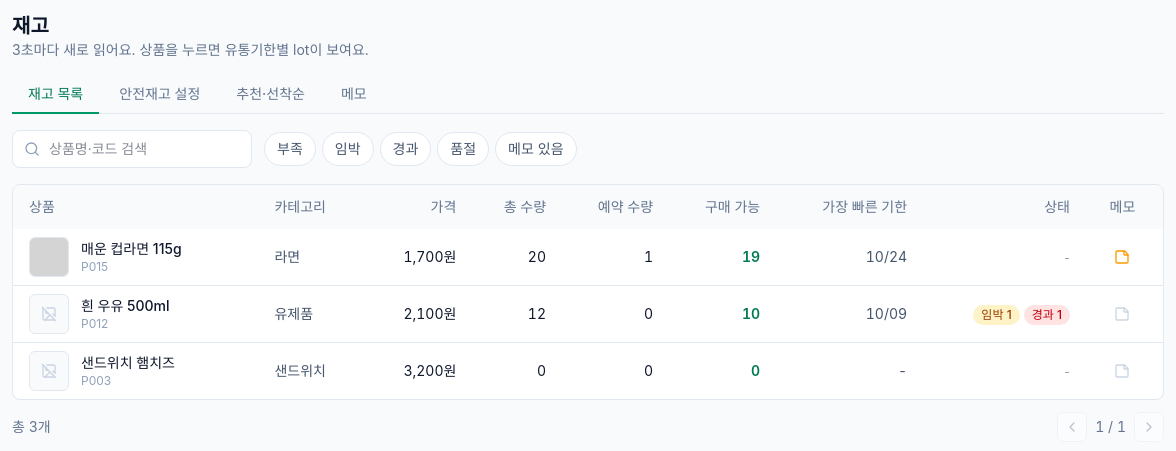
안전재고 부족 표시 (S-40) › 부족 상품이 없는데 부족만 보기를 켜면 안내 문구를 보여 준다
This screenshot has width=1176, height=451.
Click the button "부족".
click(290, 149)  # box [264,132,316,166]
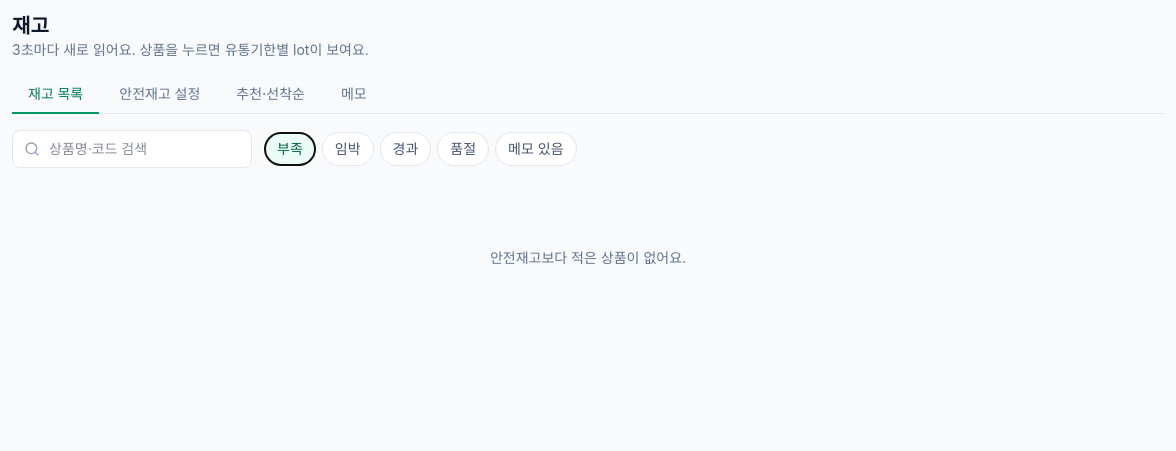
Check: the text "안전재고보다 적은 상품이 없어요." is shown, box [490,249,686,266]
